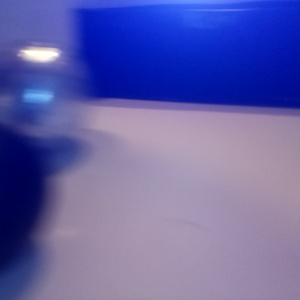alive_ball: (1, 41, 90, 150)
dead_ball: (1, 124, 50, 269)
